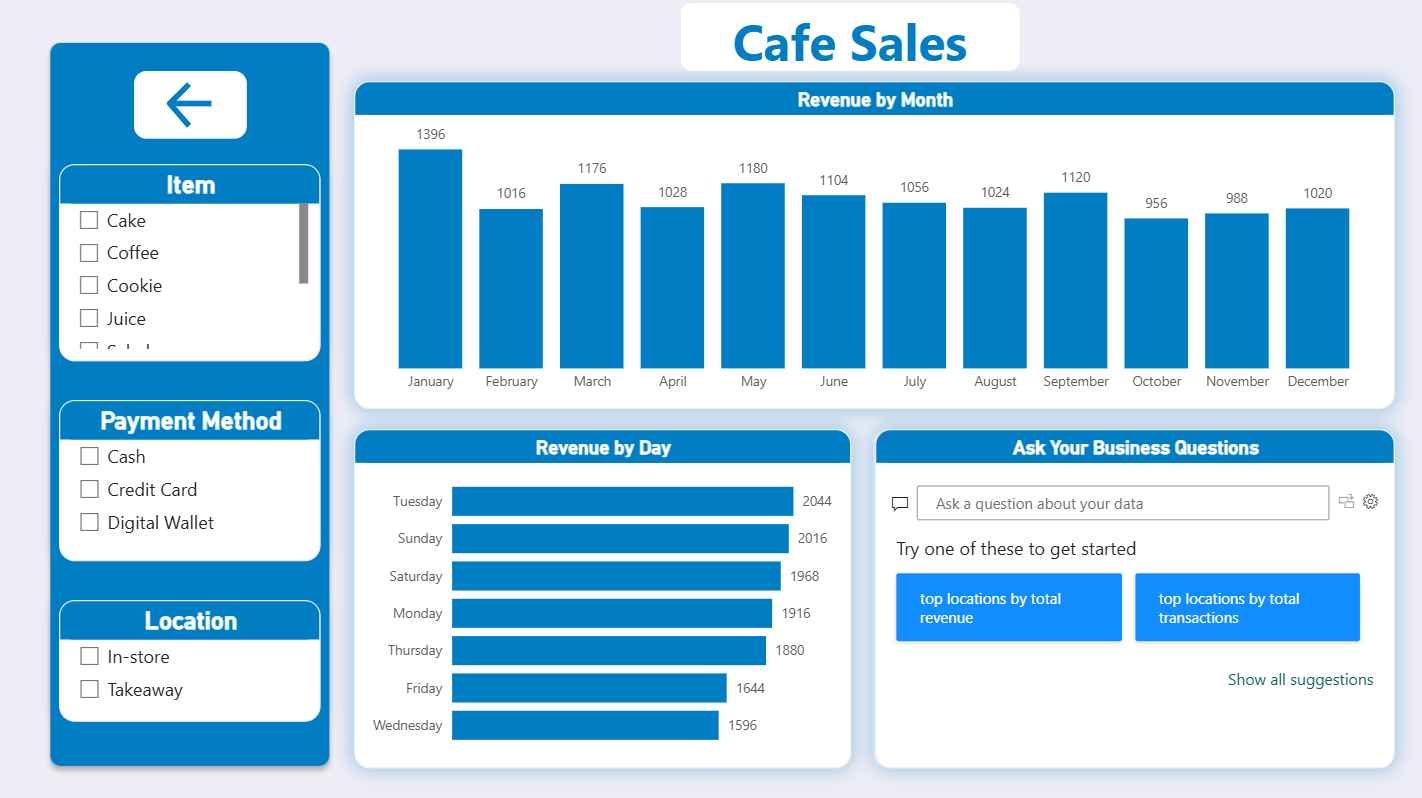

Layout of this report page (visuals, bound fields, positions):
{"tool":"powerbi","page":{"name":"Sales Trends & Time Analysis","canvas":[1280,720],"ordinal":2},"visuals":[{"type":"image","box":[0,0,1280,719.8],"z":0},{"type":"clusteredColumnChart","title":"Revenue by Month","fields":{"Category":["dirty_cafe_sales.Transaction Date.Variation.Date Hierarchy.Month"],"Y":["Sum(dirty_cafe_sales.Total_Spent)"]},"box":[323.9,76.8,923,290.8],"z":1000},{"type":"clusteredBarChart","title":"Revenue by Day","fields":{"Category":["dirty_cafe_sales.Day Name"],"Y":["Sum(dirty_cafe_sales.Total_Spent)"]},"box":[323.9,386.1,440.6,300.5],"z":2000},{"type":"qnaVisual","title":"Ask Your Business Questions","box":[785.9,386.1,461,300.5],"z":3000},{"type":"slicer","title":"Item","fields":{"Values":["dirty_cafe_sales.Item"]},"box":[62.2,150.8,232.5,175.1],"z":4000},{"type":"slicer","title":"Location","fields":{"Values":["dirty_cafe_sales.Location"]},"box":[62.2,536.9,232.5,108],"z":5000},{"type":"slicer","title":"Payment Method","fields":{"Values":["dirty_cafe_sales.Payment Method"]},"box":[62.2,359.9,232.5,143],"z":6000},{"type":"actionButton","box":[128.4,68.1,100.2,60.3],"z":7000},{"type":"shape","box":[613.7,7.8,299.6,60.3],"z":7001}]}

Visuals, with their boxes in screenshot pixels (x1, y1, x2, y2), scaled from the page's 1280x720 canvas onto the 1422x798 screenshot:
image: box=[0, 0, 1421, 797]
"Revenue by Month" clusteredColumnChart: box=[360, 85, 1385, 407]
"Revenue by Day" clusteredBarChart: box=[360, 428, 849, 761]
"Ask Your Business Questions" qnaVisual: box=[873, 428, 1385, 761]
"Item" slicer: box=[69, 167, 327, 361]
"Location" slicer: box=[69, 595, 327, 715]
"Payment Method" slicer: box=[69, 399, 327, 557]
actionButton: box=[143, 75, 254, 142]
shape: box=[682, 9, 1015, 75]
